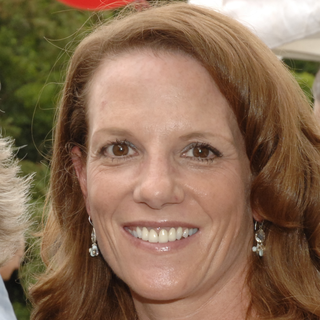eye: (173, 138, 230, 166), (91, 136, 143, 164)
